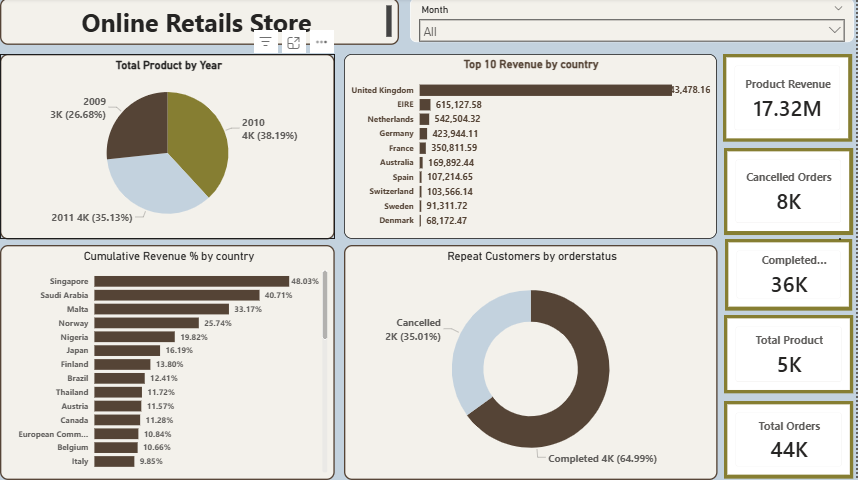

The dashboard page shown, as its layout file describes it:
{"tool":"powerbi","page":{"name":"PRODUCT ANALYTICS","canvas":[1280,720],"ordinal":2},"visuals":[{"type":"cardVisual","fields":{"Data":["products.Total Product"]},"box":[1081.5,474.1,193.2,117.1],"z":0},{"type":"cardVisual","fields":{"Data":["products.Product Revenue"]},"box":[1080,83.7,192.7,131.5],"z":1000},{"type":"cardVisual","fields":{"Data":["orders.Total Orders"]},"box":[1081.5,601.5,193.2,115.6],"z":2000},{"type":"cardVisual","fields":{"Data":["orders.Cancelled Orders"]},"box":[1081.5,224.1,192.7,130],"z":3000},{"type":"cardVisual","fields":{"Data":["orders.Completed Orders"]},"box":[1082.9,360,190.2,106.8],"z":4000},{"type":"textbox","box":[0,0,596,70.2],"z":5000},{"type":"clusteredBarChart","fields":{"Category":["customers.country"],"Y":["products.Cumulative Revenue %"]},"box":[0,368.8,500.5,351.2],"z":6000},{"type":"pieChart","fields":{"Category":["DateTable.Year"],"Y":["products.Total Product"]},"box":[0,83.4,500.5,276.6],"z":7000},{"type":"slicer","fields":{"Values":["DateTable.Month"]},"box":[611.7,0,662.9,65.9],"z":8000},{"type":"donutChart","fields":{"Category":["orders.orderstatus"],"Y":["customers.Repeat Customers"]},"box":[513.7,368.8,557.6,351.2],"z":9000},{"type":"clusteredBarChart","title":"Top 10 Revenue by country","fields":{"Y":["customers.Total Revenue"],"Category":["customers.country"]},"box":[513.9,83.7,557.2,276.3],"z":10000}]}

Visuals, with their boxes in screenshot pixels (x1, y1, x2, y2), scaled from the page's 1280x720 canvas onto the 858x480 screenshot:
cardVisual - products.Total Product: (725,316,854,394)
cardVisual - products.Product Revenue: (724,56,853,143)
cardVisual - orders.Total Orders: (725,401,854,478)
cardVisual - orders.Cancelled Orders: (725,149,854,236)
cardVisual - orders.Completed Orders: (726,240,853,311)
textbox: (0,0,400,47)
clusteredBarChart - customers.country x products.Cumulative Revenue %: (0,246,335,479)
pieChart - DateTable.Year x products.Total Product: (0,56,335,240)
slicer - DateTable.Month: (410,0,854,44)
donutChart - orders.orderstatus x customers.Repeat Customers: (344,246,718,479)
"Top 10 Revenue by country" clusteredBarChart: (344,56,718,240)
